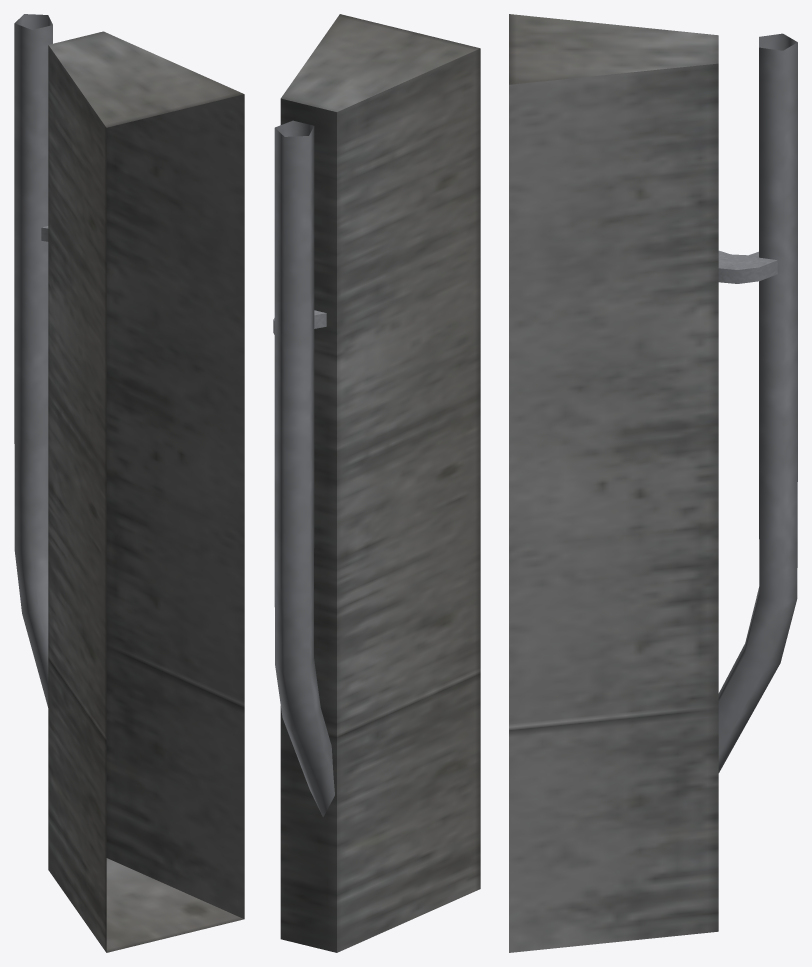
The model's file is cpb-end-2.fbx.
The picture shows the model from 3 angles, left to right: view 1: azimuth 30°, elevation 25°; view 2: azimuth 150°, elevation 25°; view 3: azimuth 270°, elevation 25°; orthographic projection. The views are drawn at different scales.
Parts seen in each view (by area): view 1: cpb-end-2; view 2: cpb-end-2; view 3: cpb-end-2.
Boxes of the visible parts, bbox=[...] form: cpb-end-2: bbox=[14, 14, 244, 952]; cpb-end-2: bbox=[273, 14, 480, 952]; cpb-end-2: bbox=[509, 14, 797, 952].
Size of the model in its own units: 70 by 400 by 121.
